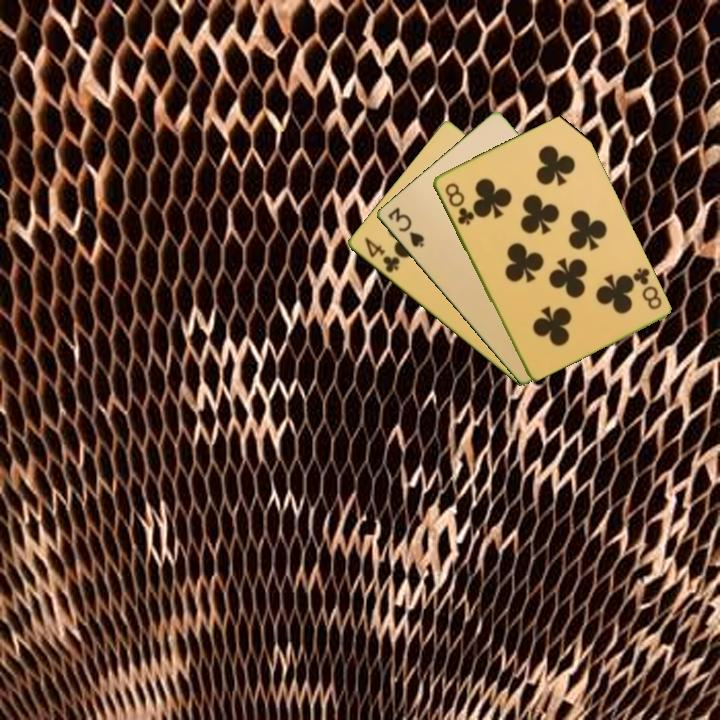3s: (384, 203, 427, 250)
4c: (360, 233, 402, 276)
8c: (441, 179, 477, 228), (629, 264, 664, 312)
